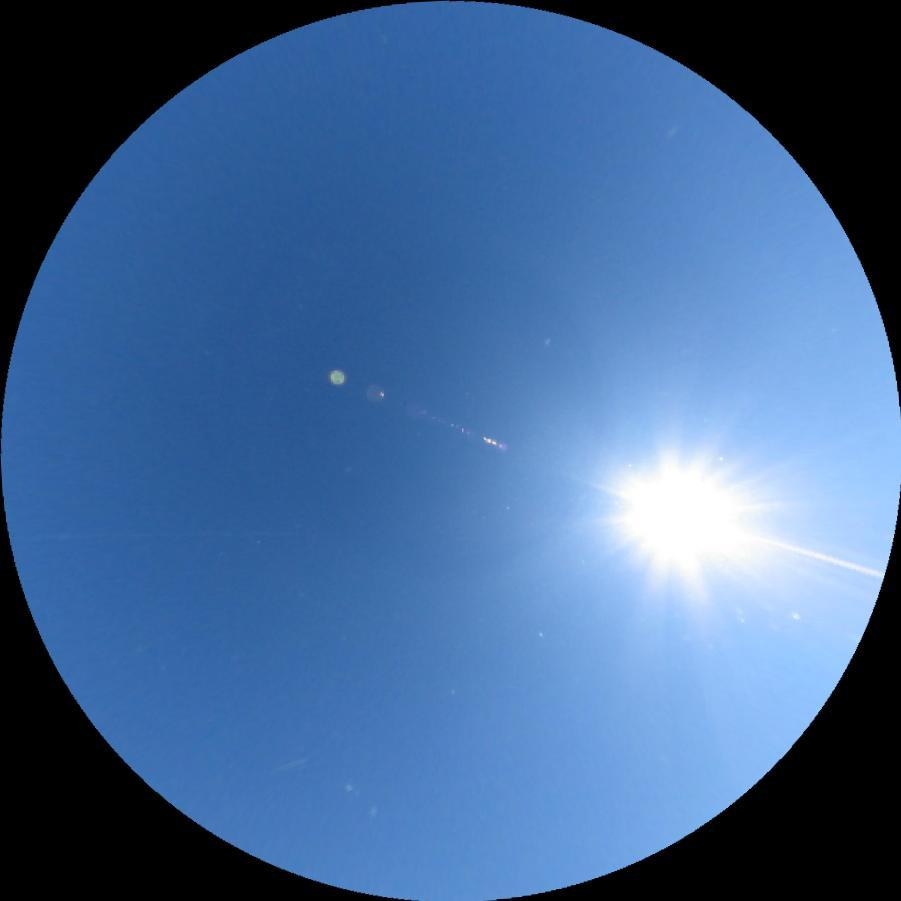contrail young: (264, 755, 311, 777)
parasite: (744, 529, 885, 577)
sun: (601, 436, 758, 591)
